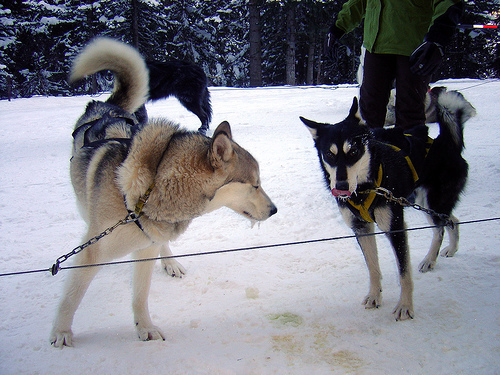dog: (47, 33, 281, 347), (298, 90, 478, 322)
